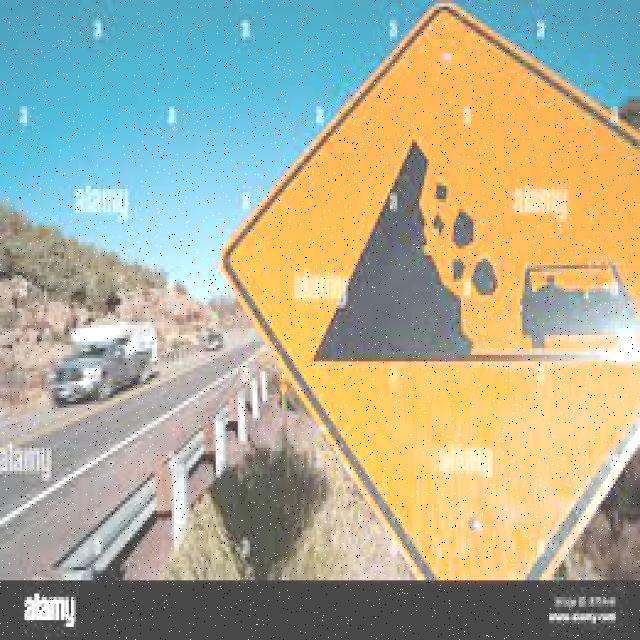Traffic sign: (215, 1, 640, 580)
